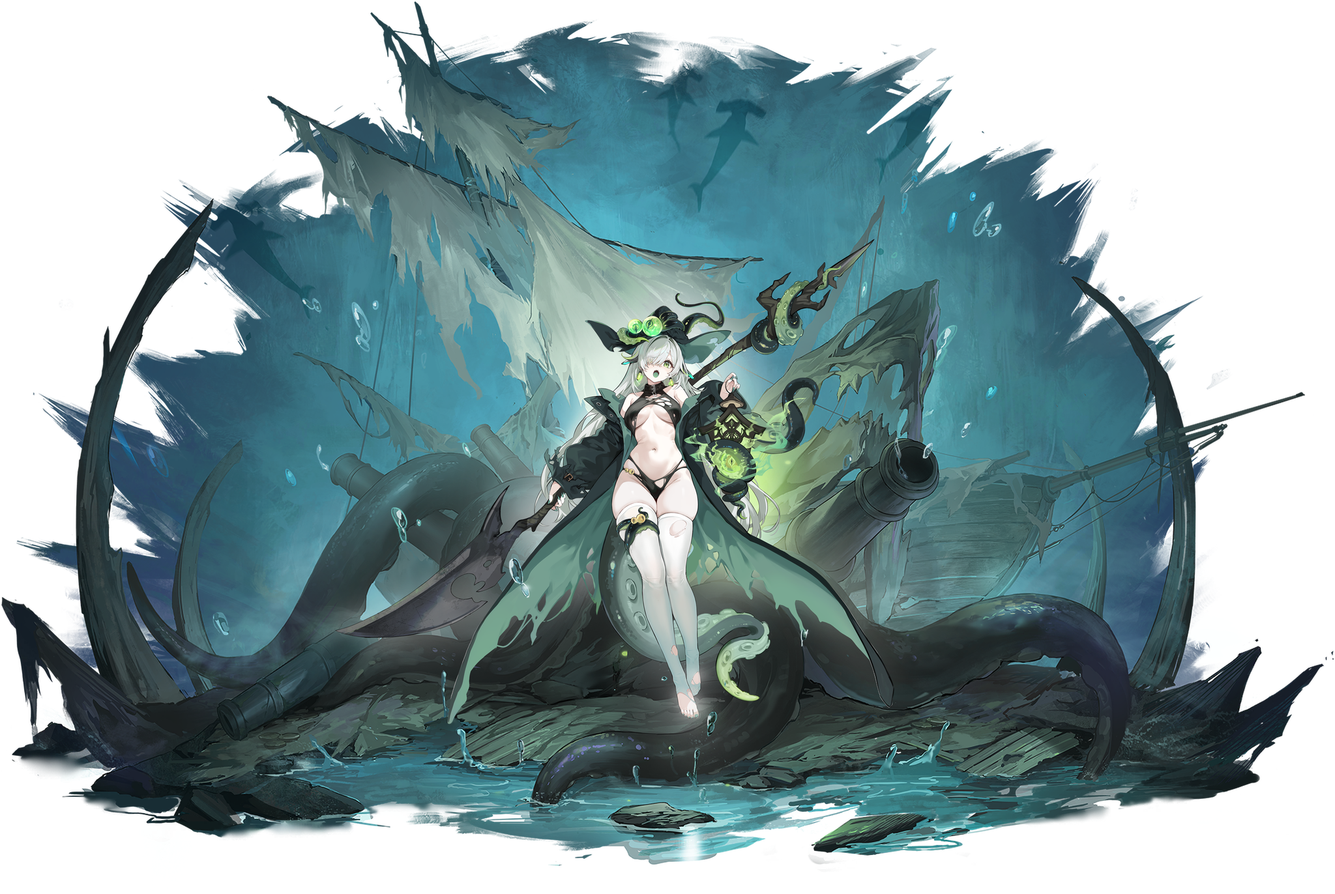person: (484, 276, 808, 795)
